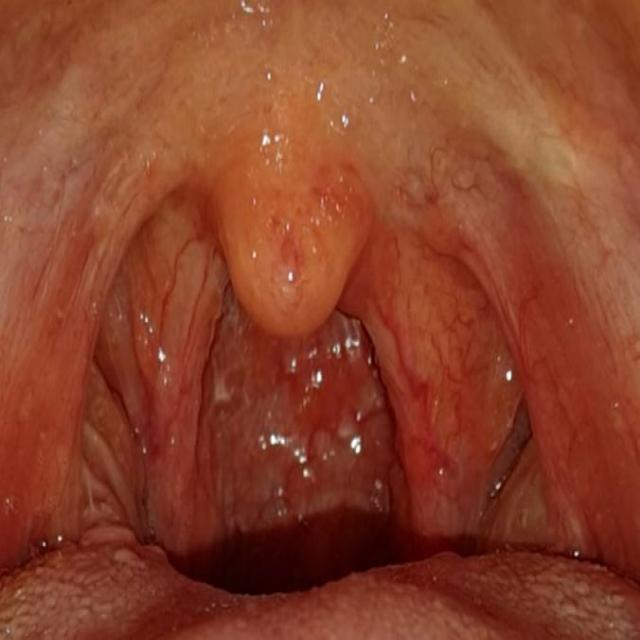Non Pharyngitis: (378, 256, 547, 550), (73, 264, 205, 586), (226, 174, 365, 343)
